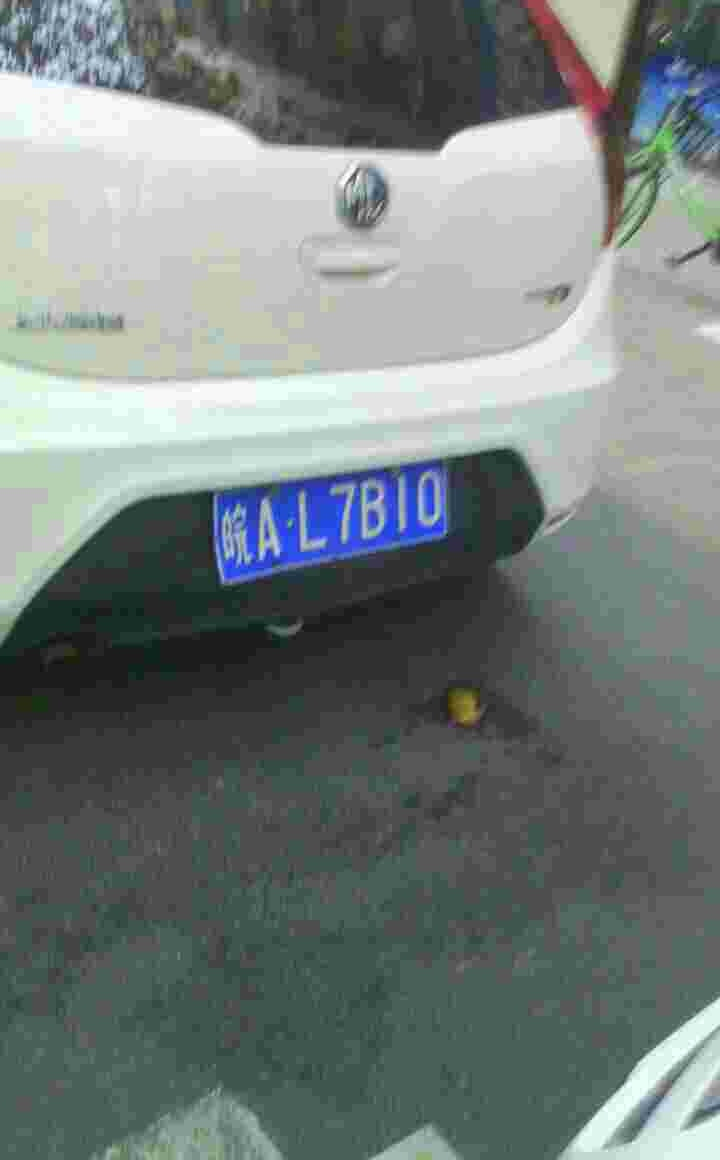license_plate: (209, 461, 453, 589)
